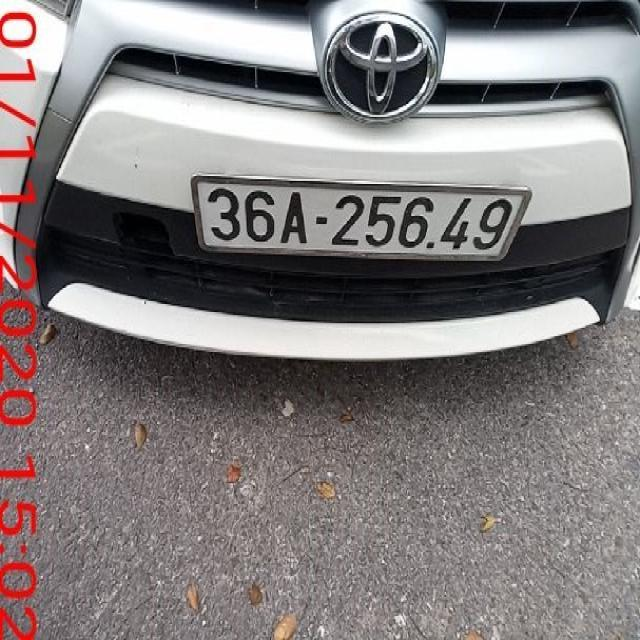bien_so_oto: (190, 172, 534, 266)
